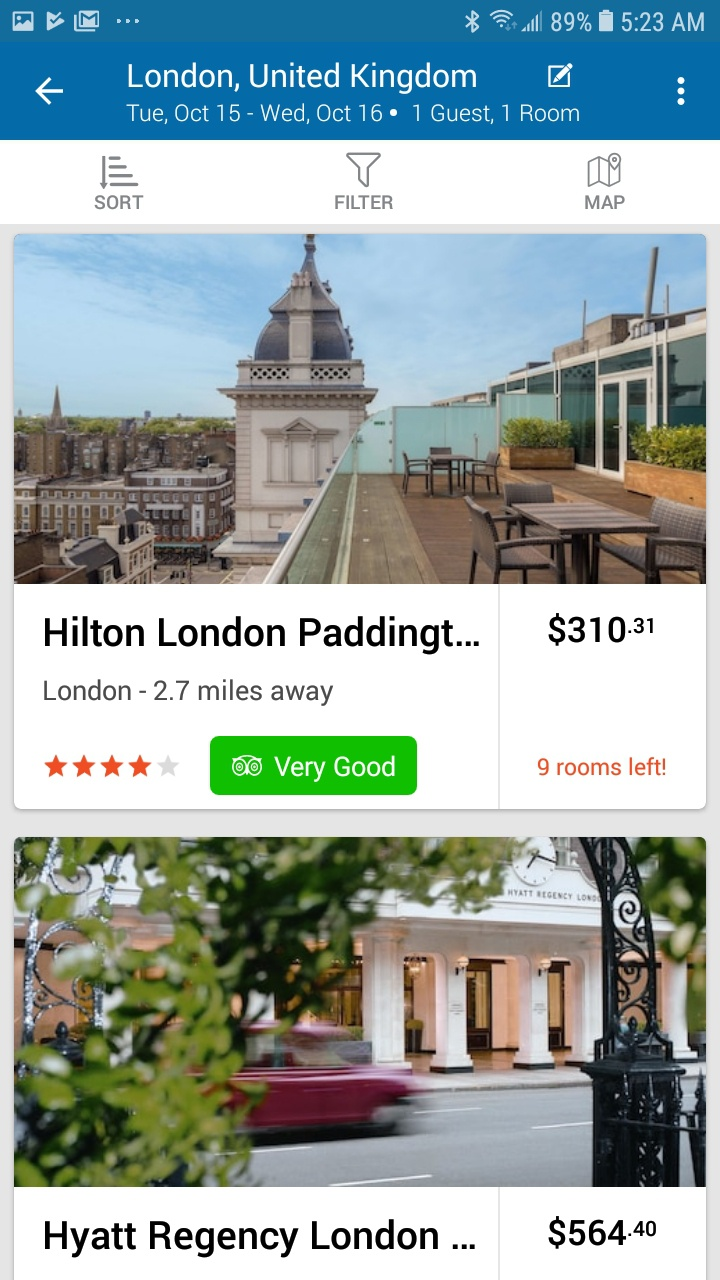Icon: (44, 755, 181, 779), (100, 157, 140, 191), (587, 153, 622, 189), (36, 77, 65, 107), (546, 61, 573, 87), (675, 73, 685, 107)
Image: (14, 234, 706, 585), (15, 836, 707, 1187), (345, 153, 382, 189)
Text: (45, 616, 480, 656), (45, 1219, 476, 1259), (128, 62, 477, 96), (126, 104, 580, 126), (44, 678, 334, 707), (548, 612, 654, 647), (548, 1216, 657, 1250), (537, 757, 666, 777), (335, 195, 394, 211), (95, 195, 145, 211), (585, 195, 626, 210)
TextButton: (210, 736, 418, 796)
UpperTaskBar: (1, 1, 720, 43)
